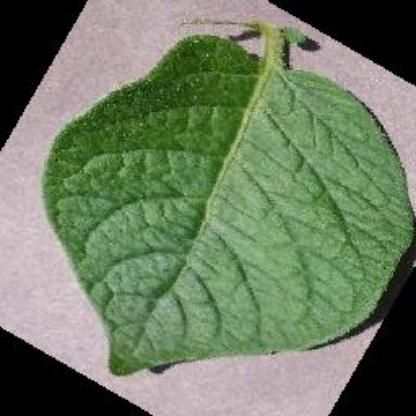Healthy-plant: (39, 19, 415, 379)
